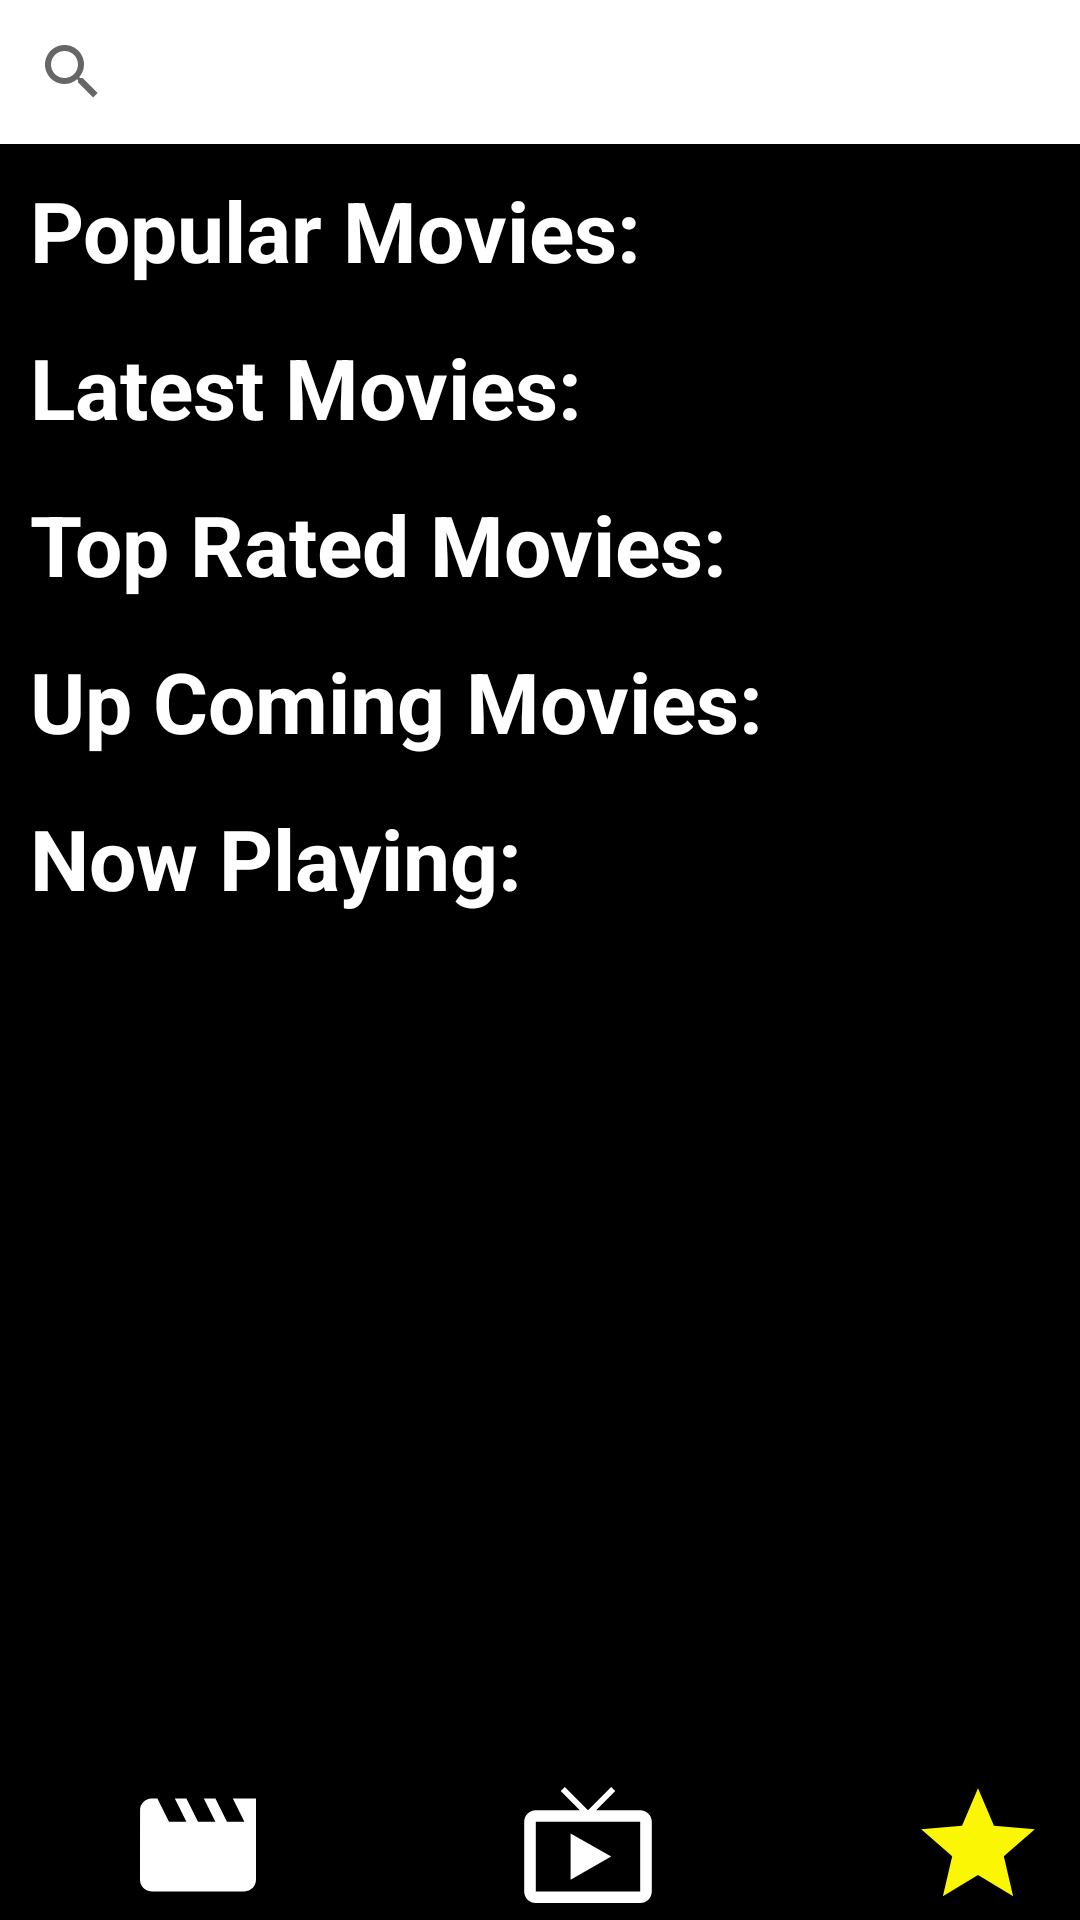

Screen size 1080w x 1920h. Icon name, then its center in pixels as [x,y]:
movie: [198,1845]
series: [588,1845]
